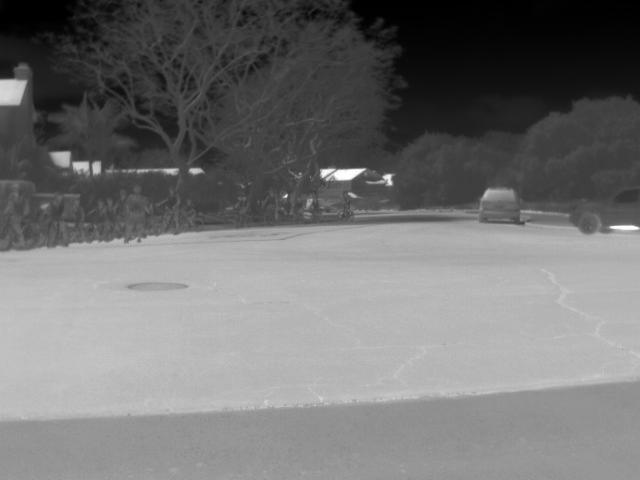car: (566, 184, 637, 233), (0, 178, 80, 221), (476, 185, 523, 221)
person: (121, 182, 153, 242), (3, 182, 31, 242), (41, 190, 70, 246), (157, 186, 183, 234), (260, 190, 281, 222), (112, 188, 130, 222), (181, 196, 199, 230), (225, 193, 253, 214), (85, 200, 107, 224)
